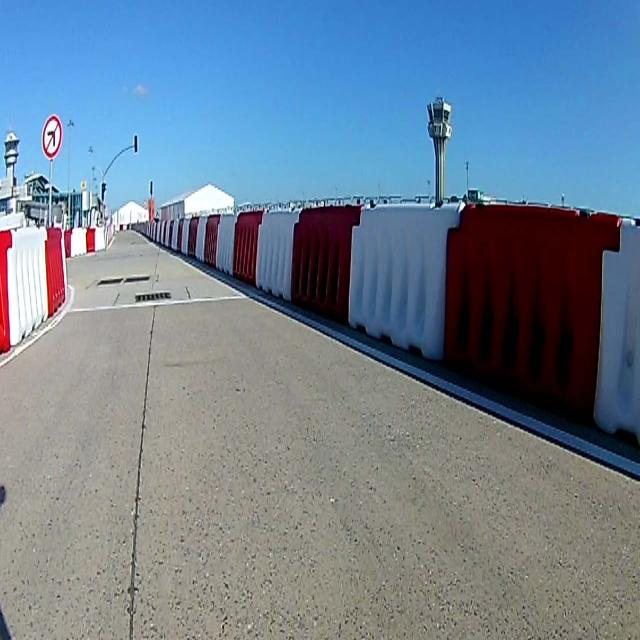soladonulmez: (41, 111, 63, 160)
